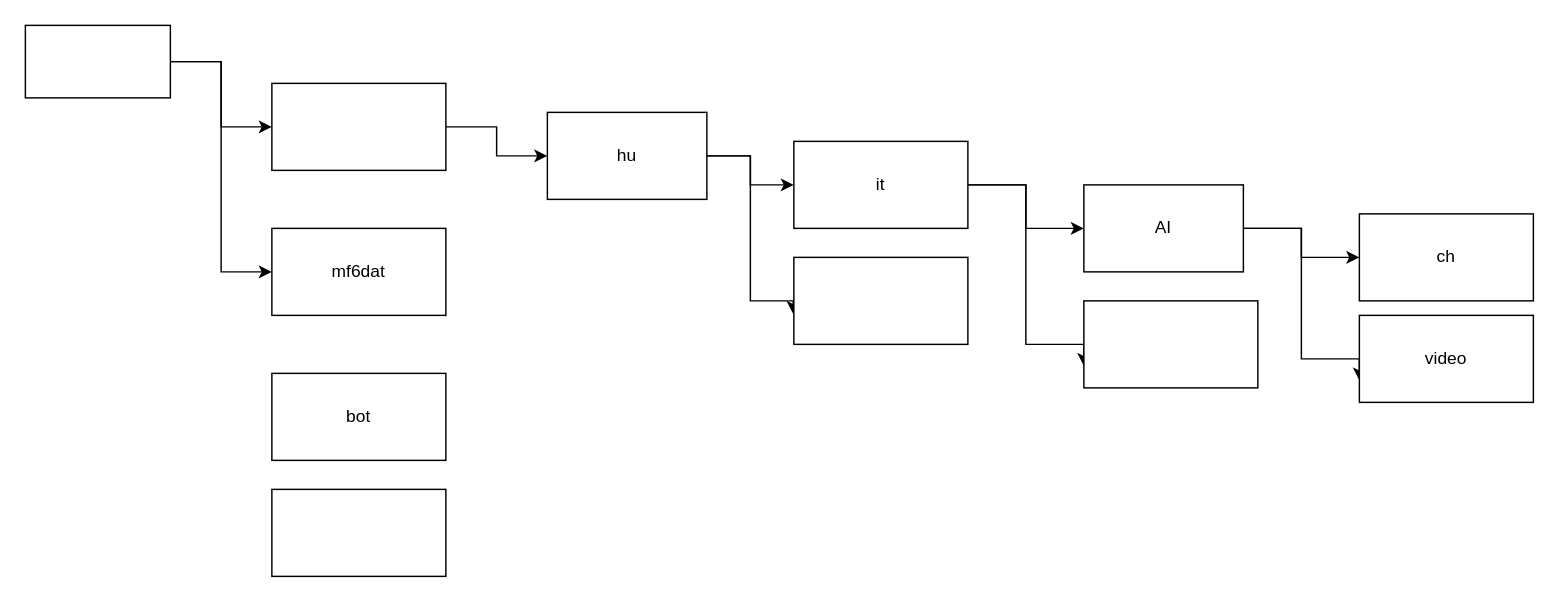
Some shapes in this 1559 by 602 pixel diagram are drawn without their labels. The box of each missing label's shape, as (x1, y1, x2, y2) in pixels:
feature: (24, 24, 170, 98)
matrial: (270, 82, 446, 170)
medsin: (792, 256, 968, 344)
ORG: (1082, 299, 1258, 388)
